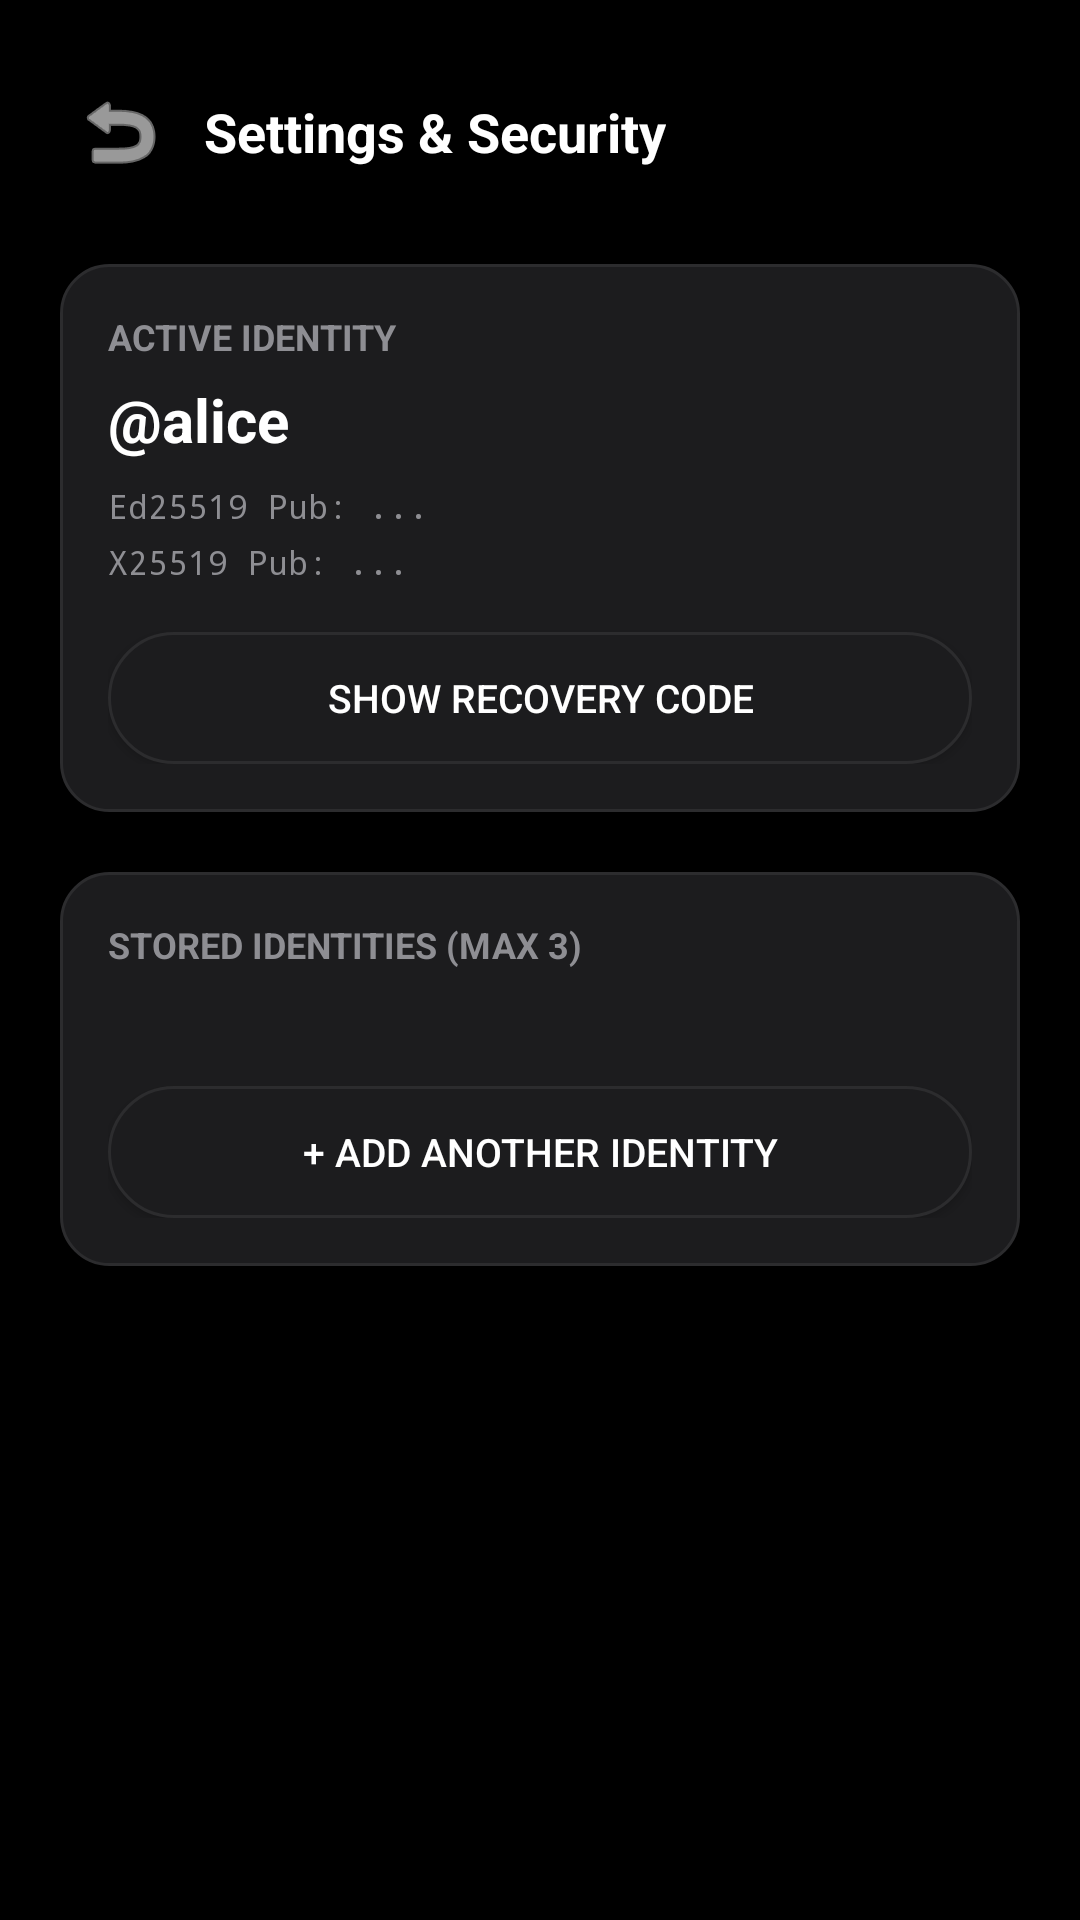

Where icons sit on this 1080 × 1920 app screen, as (x1, y1, x2, y2):
Back: (87, 101, 156, 164)
